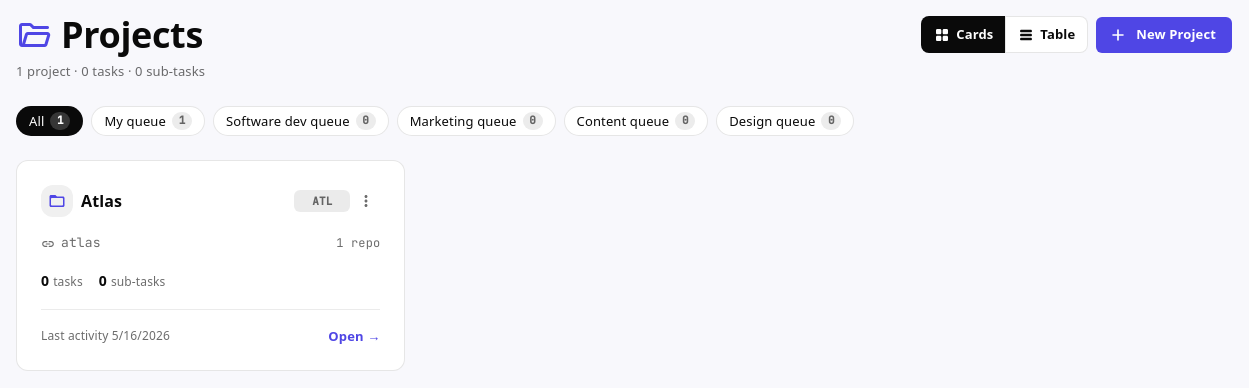
Test: Projects page › shows empty-filter message in card view when no projects match the filter
This screenshot has width=1249, height=388.
Expected: the heading "Atlas" is shown, [81,190,122,213]
Click "Software dev queue" chip — project has no matching tasks so filteredProjects is empty
Click the text "Software dev queue". click: (288, 121)
box: [226,111,350,132]
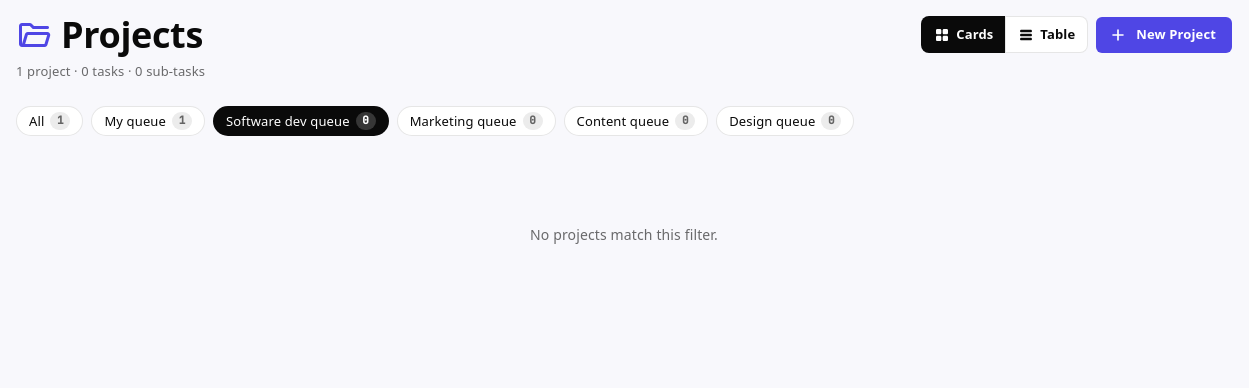
Expected: the text "No projects match this filter." is shown, [530,226,718,244]
